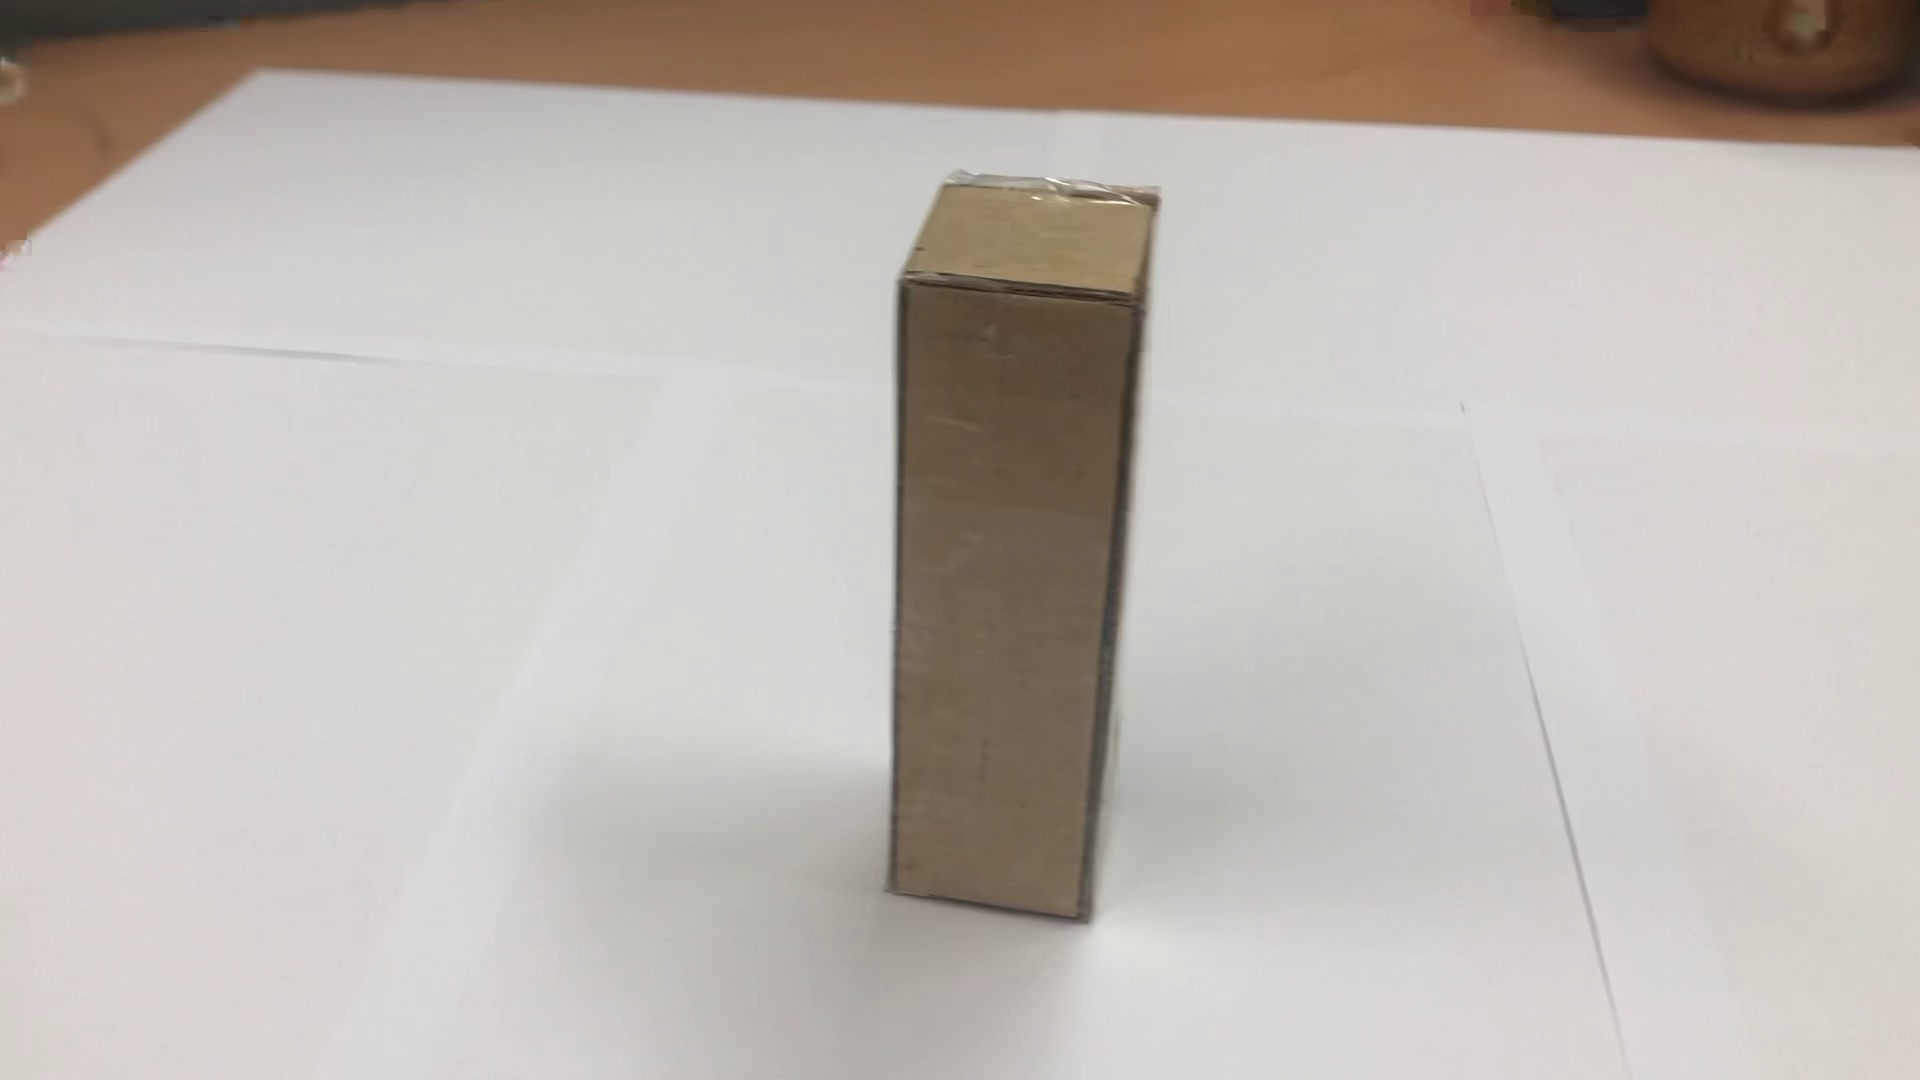box: (858, 156, 1172, 948)
